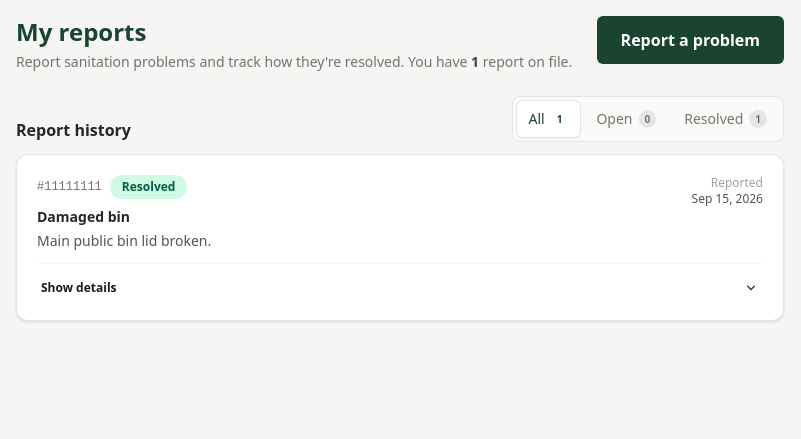
Test case: Complaints Page › list view — expansion + tab counts details › RESOLVED complaint expand shows resolution_notes inside the details panel
Expected: the text "Damaged bin" is shown, [37,207,130,226]
Note: Expand card
Click the button "Show details": coordinates (79, 288) [37,276,763,300]
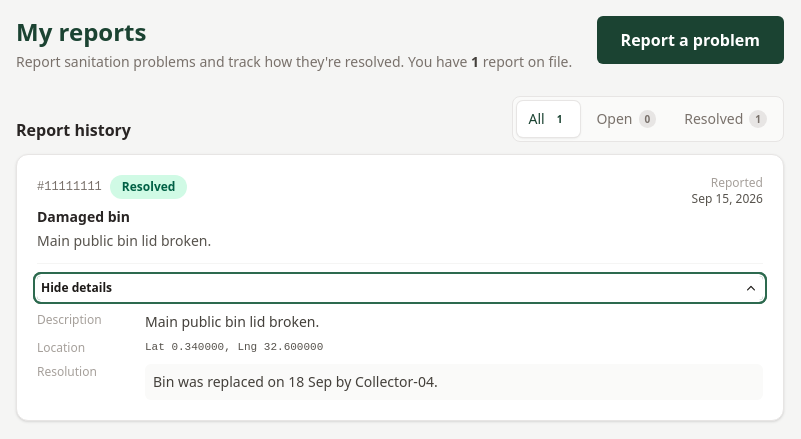
Result: the text "Bin was replaced on 18 Sep by Collector-04." is shown at [145,364,763,400]
Result: the text "Lat 0.340000, Lng 32.600000" is shown at [145,341,323,353]
